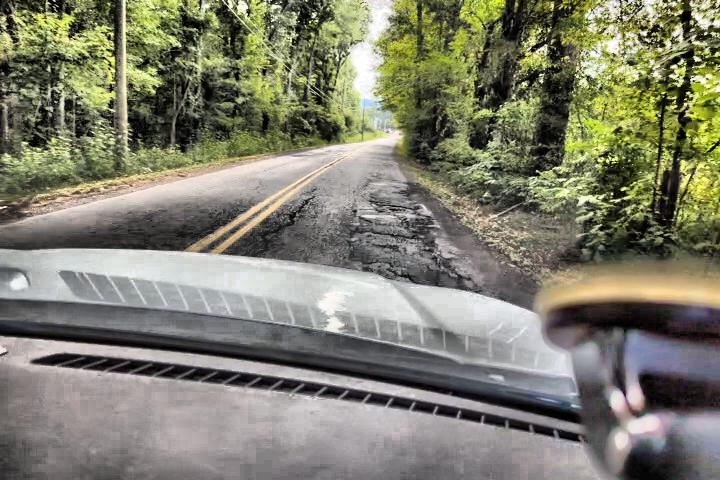pothole: (346, 231, 451, 273), (354, 203, 429, 229), (361, 176, 421, 199)
